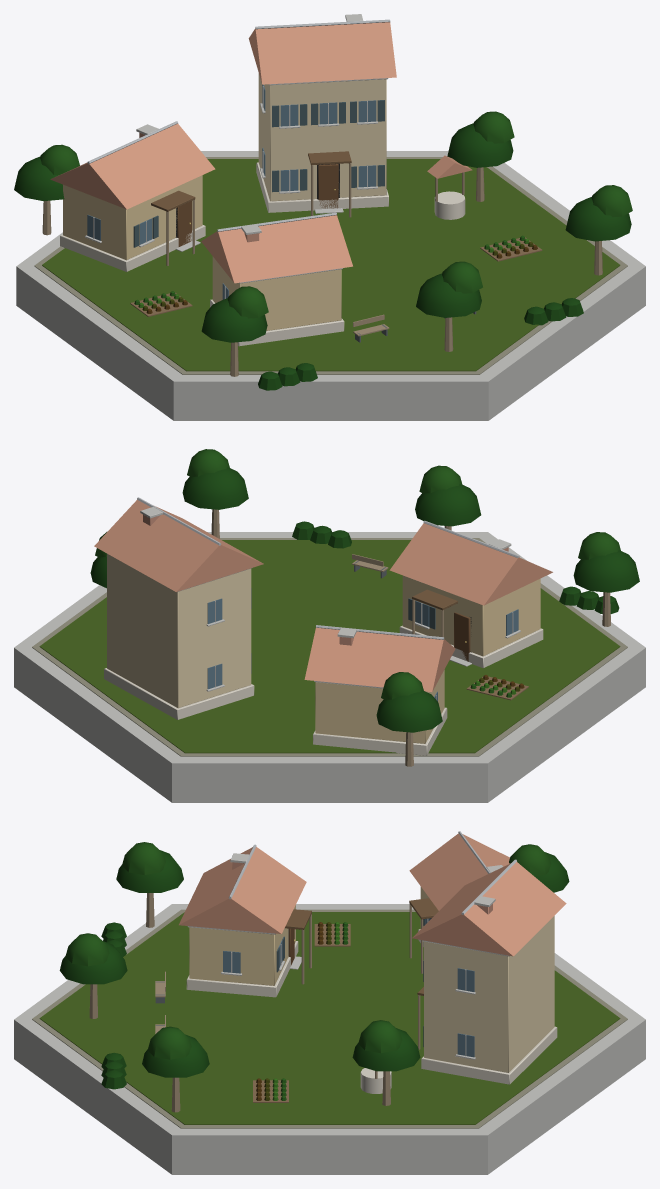
File: cottage_med.glb
The picture shows the model from 3 angles, top to bottom: view 1: azimuth 30°, elevation 25°; view 2: azimuth 150°, elevation 25°; view 3: azimuth 270°, elevation 25°; orthographic projection.
Parts seen in each view (by area): view 1: turf, wall_concrete, roof_tile, plaster, leaf, wood, stone, pavers, glass, metal, earth; view 2: turf, wall_concrete, plaster, roof_tile, leaf, stone, pavers, wood, glass, metal; view 3: turf, wall_concrete, plaster, roof_tile, leaf, pavers, stone, wood, glass, earth, metal.
Boxes of the visible parts, x1,y1,x2,y2 form: turf: (42,159,620,371); wall_concrete: (16,14,645,420); roof_tile: (50,22,472,283); plaster: (63,73,386,330); leaf: (14,111,632,390); wood: (42,100,602,376); stone: (60,162,465,346); pavers: (34,157,627,374); glass: (87,84,376,299); metal: (87,19,390,231); earth: (130,237,542,316); turf: (39,540,620,753); wall_concrete: (14,507,645,802); plaster: (107,553,540,743); roof_tile: (94,499,552,691); leaf: (90,449,639,732); stone: (104,625,543,755); pavers: (32,538,627,756); wood: (211,509,610,766); glass: (207,598,518,701); metal: (137,497,519,639); turf: (39,912,620,1124); wall_concrete: (14,853,645,1174); plaster: (189,886,554,1072); roof_tile: (179,833,566,956); leaf: (59,842,569,1100); pavers: (32,909,627,1128); stone: (186,929,557,1093); wood: (89,893,438,1112); glass: (223,918,474,1057); earth: (253,924,350,1102); metal: (228,831,516,914).
Bounding box in the file's own units: 21.3 × 8.93 × 24.6.
